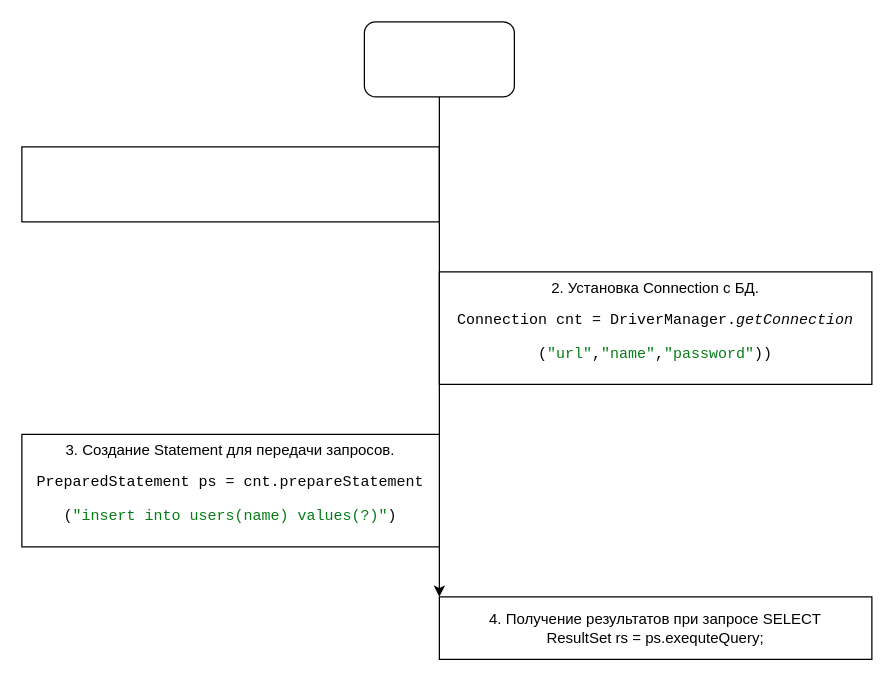
Some shapes in this 894 by 681 pixel diagram are drawn without their labels. The shapes that lost their labels are listed below. From the top down, each one's centre as x and y in pixels, then its label:
[438,59]: Подключение к СУБД
[230,184]: 1. Загрузка класса драйвера. Class . forName (org.postgresql.Driver);
